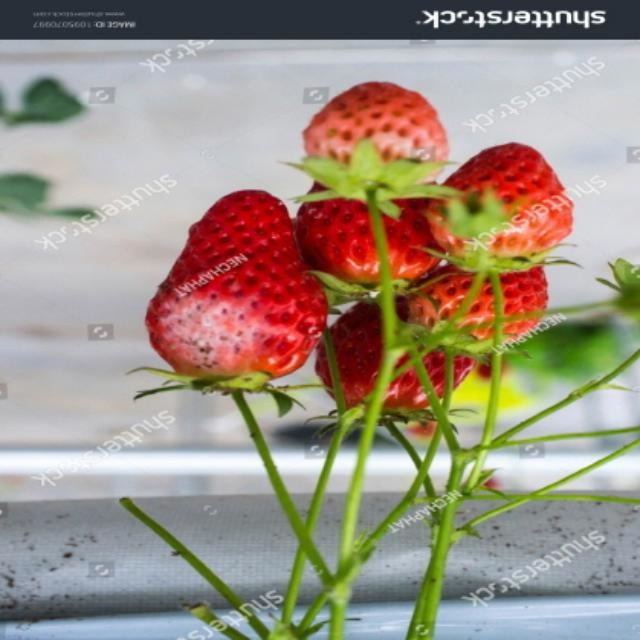Powdery Mildew Fruit: (153, 290, 270, 371)
